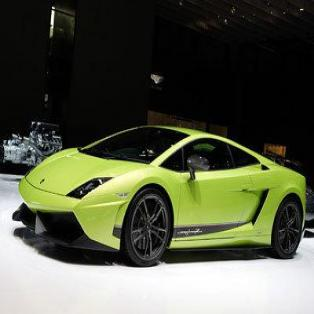Auto: (12, 124, 306, 266)
